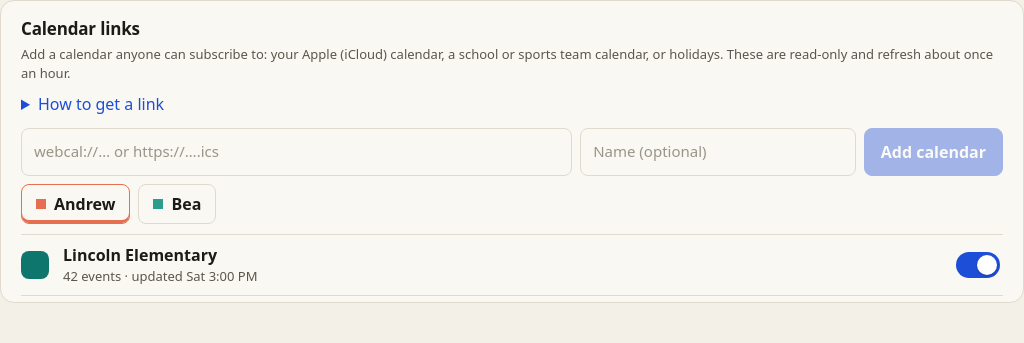
Calendar links › adds a link for the chosen people and says what it found
This screenshot has width=1024, height=343.
In the field named "Calendar link": (297, 152) x1=21 y1=128 x2=572 y2=176, type "webcal://p52-caldav.icloud.com/published/2/abc"
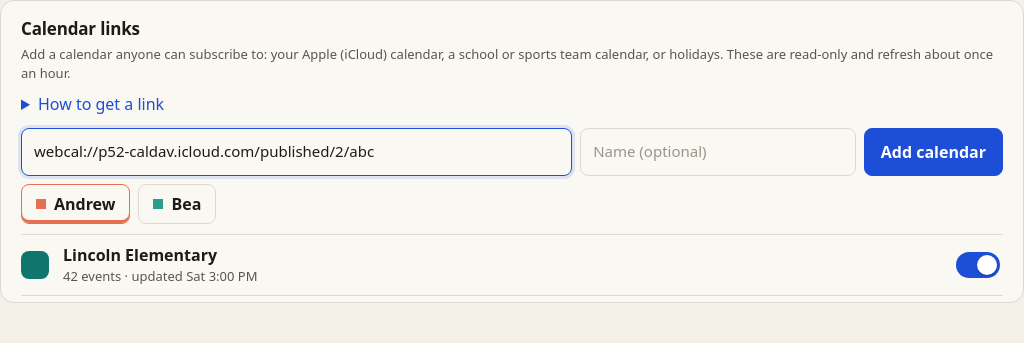
Click the button "Bea": (177, 204) x1=138 y1=184 x2=216 y2=224
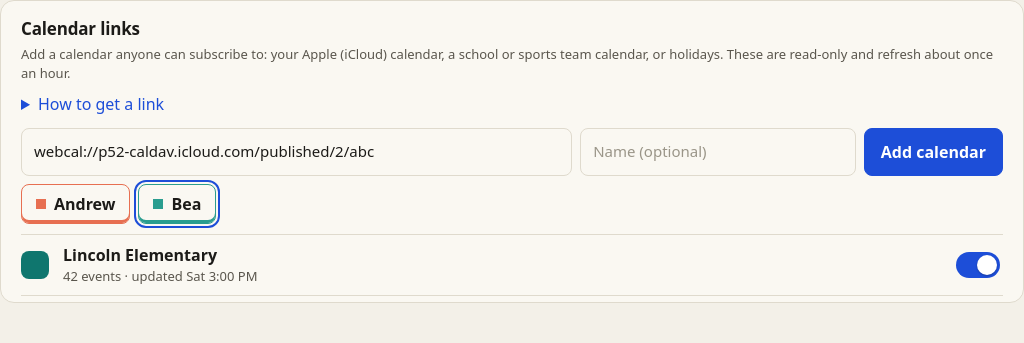
Click the button "Add calendar": (933, 152) x1=864 y1=128 x2=1003 y2=176
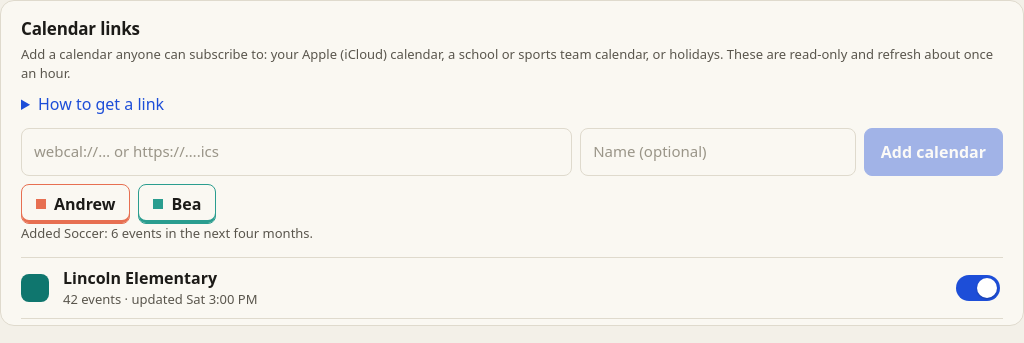
Now the message shows "Added Soccer: 6 events", box x1=21 y1=224 x2=313 y2=242
